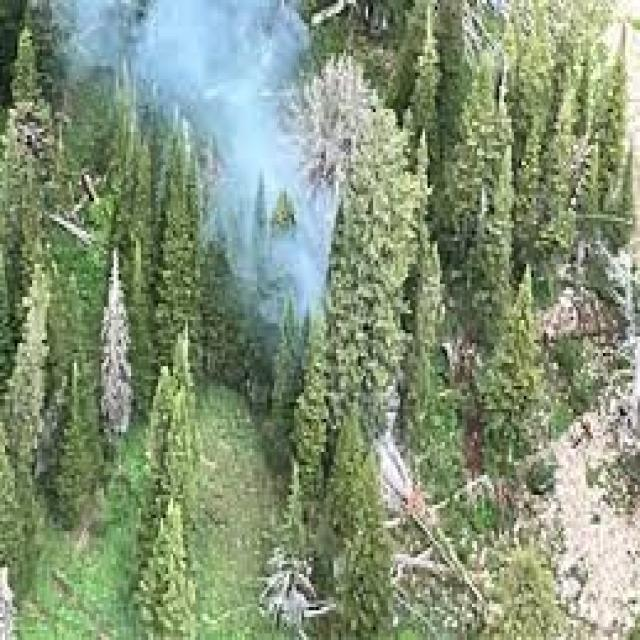Smoke: (176, 0, 354, 350), (54, 0, 296, 115)
